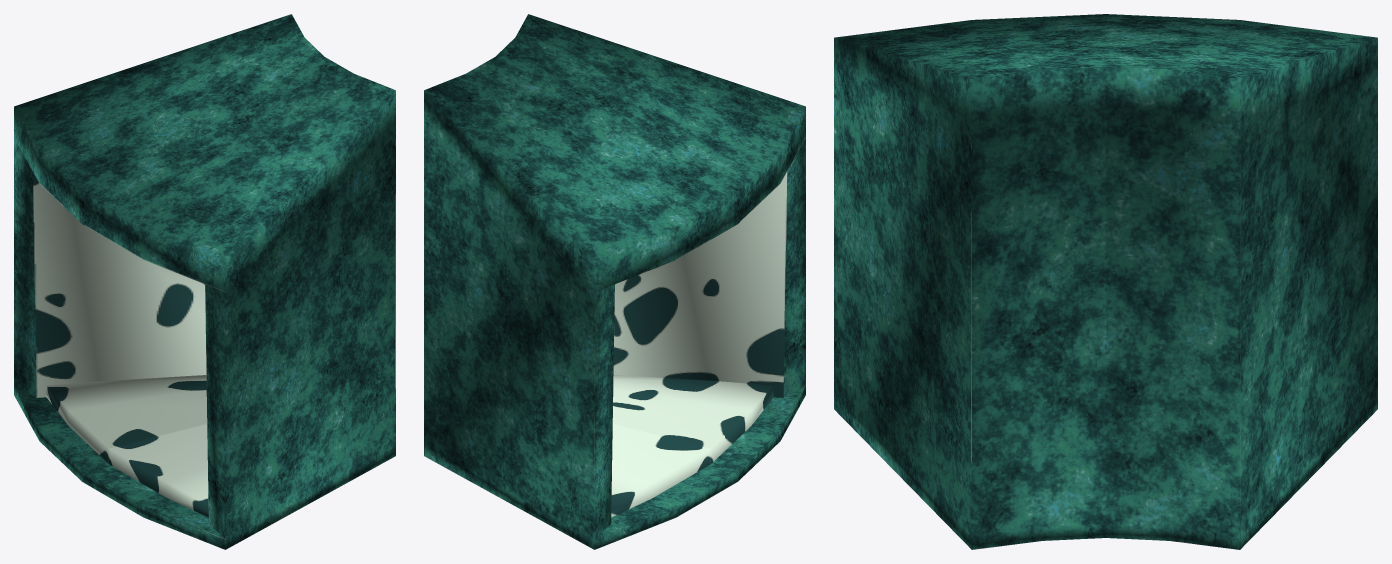
File: ascenceur.obj
3 views of the same model, side by side, from view 1: azimuth 30°, elevation 25°; view 2: azimuth 150°, elevation 25°; view 3: azimuth 270°, elevation 25° (orthographic). The views are drawn at different scales.
Visible parts, largest first — view 1: base_wall.004; view 2: base_wall.004; view 3: base_wall.004.
Boxes of the visible parts, x1=… form: base_wall.004: x1=14, y1=14, x2=395, y2=549; base_wall.004: x1=424, y1=14, x2=805, y2=549; base_wall.004: x1=834, y1=14, x2=1377, y2=549.
Bounding box in the file's own units: 2.33 × 3.12 × 3.26.
